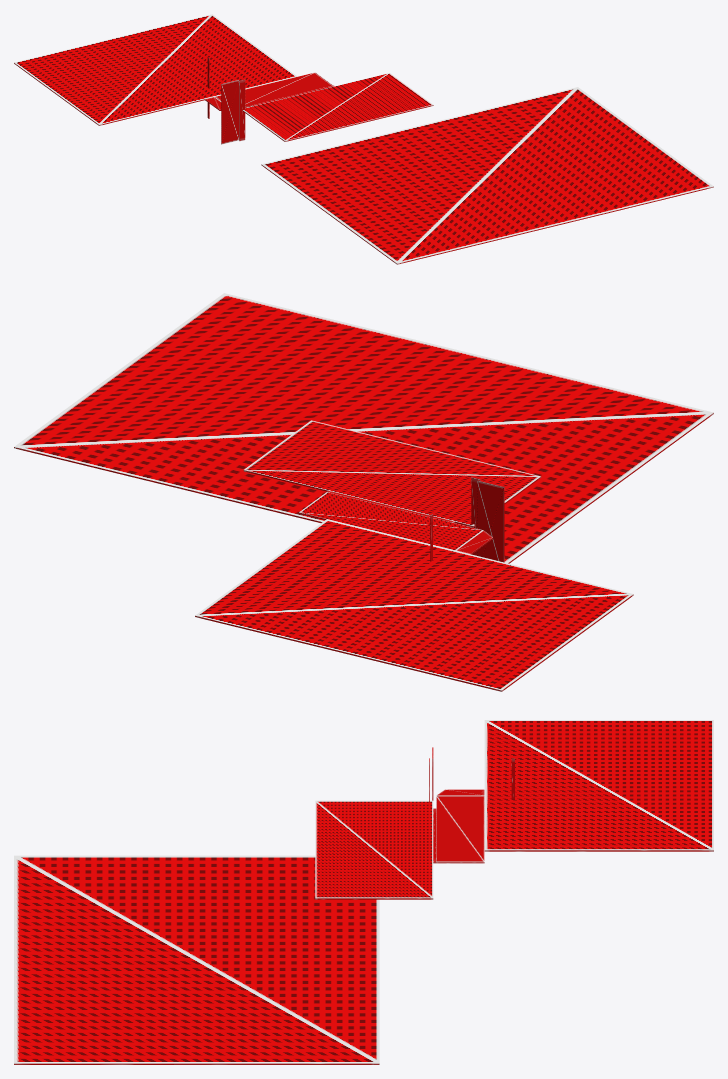
Rendered from Killplanes.obj.
The picture shows the model from 3 angles, top to bottom: view 1: azimuth 30°, elevation 25°; view 2: azimuth 150°, elevation 25°; view 3: azimuth 270°, elevation 25°; orthographic projection. The views are drawn at different scales.
Bounding box in the file's own units: 15172 × 2362 × 15546.
1 material, 1 textured.
